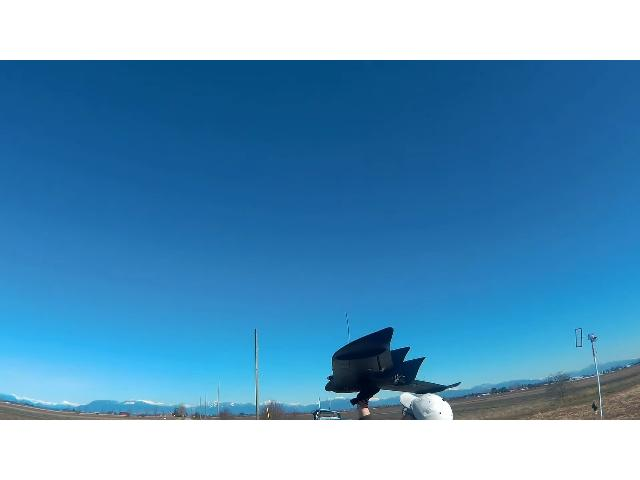Anti-Drone: (310, 310, 466, 416)
